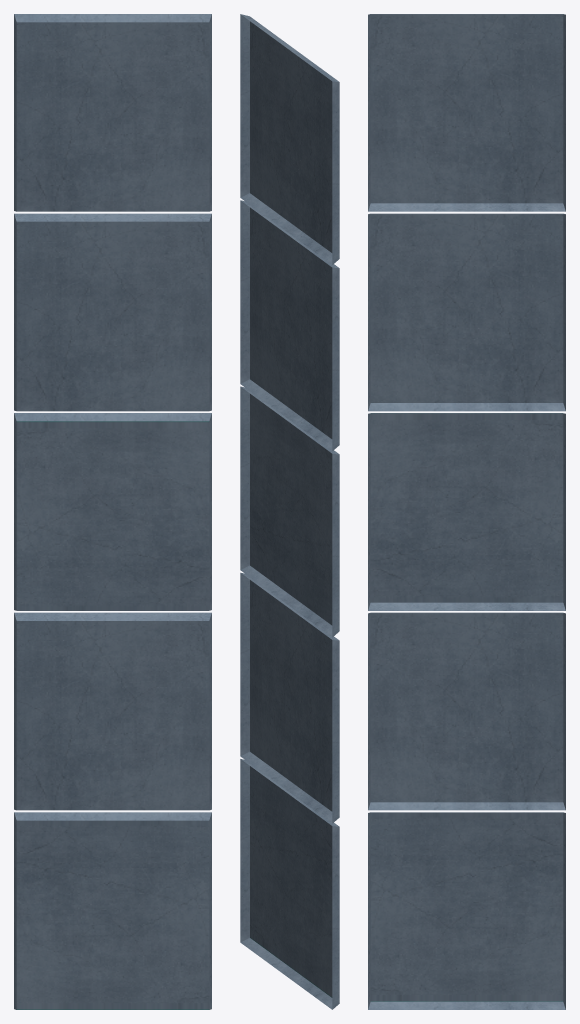
Rendered from MB_Rusticated_Corner_01.fbx.
The picture shows the model from 3 angles, left to right: view 1: azimuth 90°, elevation 25°; view 2: azimuth 210°, elevation 25°; view 3: azimuth 270°, elevation 25°; orthographic projection. The views are drawn at different scales.
Parts seen in each view (by area): view 1: MB_Rusticated_Corner_01; view 2: MB_Rusticated_Corner_01; view 3: MB_Rusticated_Corner_01.
Boxes of the visible parts, x1=… form: MB_Rusticated_Corner_01: x1=14, y1=14, x2=211, y2=1009; MB_Rusticated_Corner_01: x1=240, y1=14, x2=339, y2=1009; MB_Rusticated_Corner_01: x1=368, y1=14, x2=565, y2=1009.
Bounding box in the file's own units: 3.83 × 399 × 71.82.
